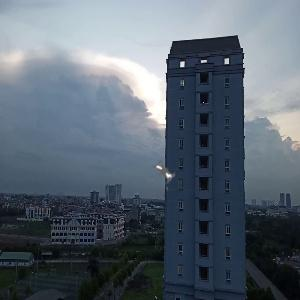drone: (134, 141, 195, 202)
